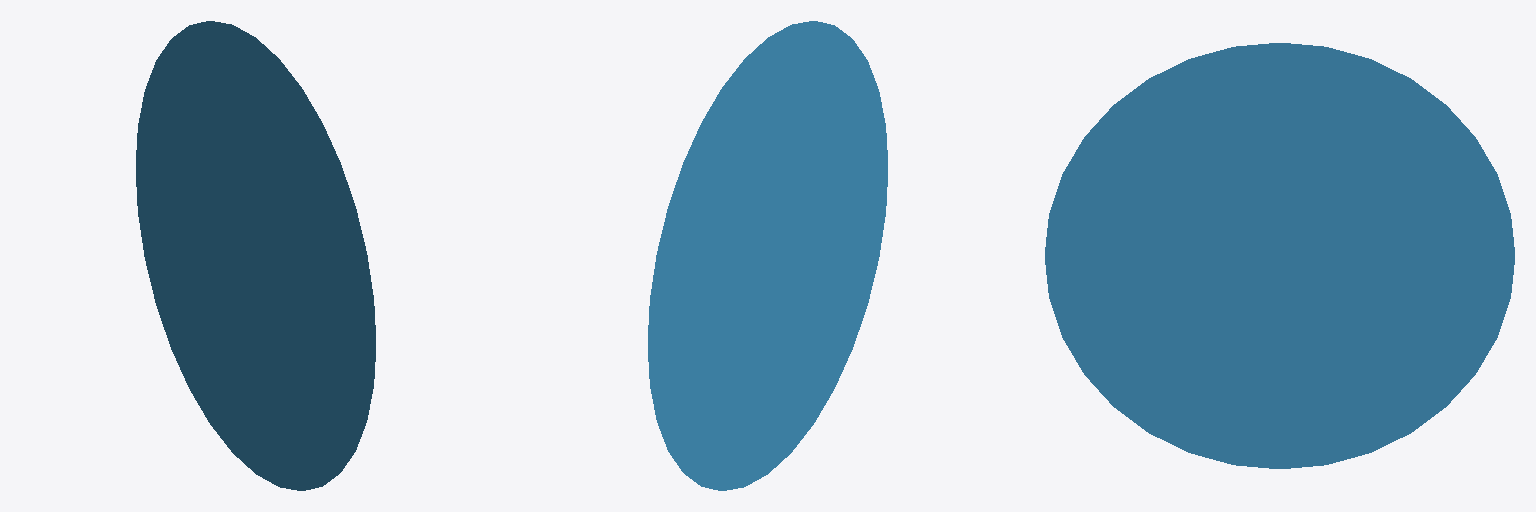
The robot description file, URDF, robot "DexterousHand":
<?xml version="1.0"?>
<robot name="DexterousHand">


    <link name="world"/>
    <joint name="world_to_palm" type="fixed">
        <parent link="world"/>
        <child link="palm"/>
        <origin xyz="0 0 0" rpy="0 0 0"/>
    </joint>
    <link name="palm">
        <inertial>
            <origin xyz="0 0 0.057" rpy="0 0 0"/>
            <mass value="0.0"/>
            <inertia ixx="0.0" ixy="0.0" ixz="0.0" iyy="0.0" iyz="0.0" izz="0.0"/>
        </inertial>
        <visual>
            <origin xyz="0 0 0.057" rpy="1.5708 0 1.5708"/>
            <geometry>
                <cylinder radius="0.057" length="0.0"/>
            </geometry>
            <material name="default"/>
        </visual>
        <collision>
            <origin xyz="0 0 0.057" rpy="1.5708 0 1.5708"/>
            <geometry>
                <cylinder radius="0.057" length="0.0"/>
            </geometry>
        </collision>
    </link>

    
    <joint name="thumb_joint1" type="revolute">
        <parent link="palm"/>
        <child link="thumb_base"/>
        <origin xyz="0.0 0.0 0.0" rpy="0.0 0.0 0.0"/>
        <axis xyz="1 0 0"/>
        <limit lower="0.0" upper="0.0" effort="1.0" velocity="1.0"/>
    </joint>

    <link name="thumb_base"></link>

    <joint name="thumb_joint2" type="revolute">
        <parent link="thumb_base"/>
        <child link="thumb_proximal"/>
        <origin xyz="0.0 0.0 0.0" rpy="0.0 0.0 0.0"/>
        <axis xyz="0 1 0"/>
        <limit lower="0.0" upper="0.0" effort="1.0" velocity="1.0"/>
    </joint>

    <link name="thumb_proximal">
    </link>

    <joint name="thumb_joint3" type="revolute">
        <parent link="thumb_proximal"/>
        <child link="thumb_knuckle"/>
        <origin xyz="0.0 0.0 0.0" rpy="0.0 0.0 0.0"/>
        <axis xyz="1 0 0"/>
        <limit lower="0.0" upper="0.0" effort="1.0" velocity="1.0"/>
    </joint>

    <link name="thumb_knuckle"></link>

    <joint name="thumb_joint4" type="revolute">
        <parent link="thumb_knuckle"/>
        <child link="thumb_middle"/>
        <origin xyz="0 0 0" rpy="0 0 0"/> 
        <axis xyz="0 1 0"/>
        <limit lower="0.0" upper="0.0" effort="1.0" velocity="1.0"/>
    </joint>

    <link name="thumb_middle">
    </link>

    <joint name="thumb_joint5" type="revolute">
        <parent link="thumb_middle"/>
        <child link="thumb_distal"/>
        <origin xyz="0 0 0" rpy="0 0 0"/> 
        <axis xyz="0 1 0"/>
        <limit lower="0.0" upper="0.0" effort="1.0" velocity="1.0"/>
    </joint>

    <link name="thumb_distal">
    </link>

    
    <joint name="index_joint1" type="revolute">
        <parent link="palm"/>
        <child link="index_proximal"/>
        <origin xyz="0.0 0.0 0.0" rpy="0.0 0.0 0.0"/>
        <axis xyz="1 0 0"/>
        <limit lower="0.0" upper="0.0" effort="1.0" velocity="1.0"/>
    </joint>

    <link name="index_proximal">
    </link>

    <joint name="index_joint2" type="revolute">
        <parent link="index_proximal"/>
        <child link="index_dummy"/>
        <origin xyz="0.0 0.0 0.0" rpy="0.0 0.0 0.0"/>
        <axis xyz="0 1 0"/>
        <limit lower="0.0" upper="0.0" effort="1.0" velocity="1.0"/>
    </joint>

    <link name="index_dummy"></link>

    <joint name="index_joint3" type="revolute">
        <parent link="index_dummy"/>
        <child link="index_middle"/>
        <origin xyz="0 0 0" rpy="0 0 0"/>
        <axis xyz="0 1 0"/>
        <limit lower="0.0" upper="0.0" effort="1.0" velocity="1.0"/>
    </joint>

    <link name="index_middle">
    </link>

    <joint name="index_joint4" type="revolute">
        <parent link="index_middle"/>
        <child link="index_distal"/>
        <origin xyz="0 0 0" rpy="0 0 0"/> 
        <axis xyz="0 1 0"/>
        <limit lower="0.0" upper="0.0" effort="1.0" velocity="1.0"/>
    </joint>

    <link name="index_distal">
    </link>

    
    <joint name="middle_joint1" type="revolute">
        <parent link="palm"/>
        <child link="middle_proximal"/>
        <origin xyz="0.0 0.0 0.0" rpy="0.0 0.0 0.0"/>
        <axis xyz="1 0 0"/>
        <limit lower="0.0" upper="0.0" effort="1.0" velocity="1.0"/>
    </joint>

    <link name="middle_proximal">
    </link>

    <joint name="middle_joint2" type="revolute">
        <parent link="middle_proximal"/>
        <child link="middle_dummy"/>
        <origin xyz="0.0 0.0 0.0" rpy="0.0 0.0 0.0"/>
        <axis xyz="0 1 0"/>
        <limit lower="0.0" upper="0.0" effort="1.0" velocity="1.0"/>
    </joint>

    <link name="middle_dummy"></link>

    <joint name="middle_joint3" type="revolute">
        <parent link="middle_dummy"/>
        <child link="middle_middle"/>
        <origin xyz="0 0 0" rpy="0 0 0"/>
        <axis xyz="0 1 0"/>
        <limit lower="0.0" upper="0.0" effort="1.0" velocity="1.0"/>
    </joint>

    <link name="middle_middle">
    </link>

    <joint name="middle_joint4" type="revolute">
        <parent link="middle_middle"/>
        <child link="middle_distal"/>
        <origin xyz="0 0 0" rpy="0 0 0"/> 
        <axis xyz="0 1 0"/>
        <limit lower="0.0" upper="0.0" effort="1.0" velocity="1.0"/>
    </joint>

    <link name="middle_distal">
    </link>

    
    <joint name="ring_joint1" type="revolute">
        <parent link="palm"/>
        <child link="ring_proximal"/>
        <origin xyz="0.0 0.0 0.0" rpy="0.0 0.0 0.0"/>
        <axis xyz="1 0 0"/>
        <limit lower="0.0" upper="0.0" effort="1.0" velocity="1.0"/>
    </joint>

    <link name="ring_proximal">
    </link>

    <joint name="ring_joint2" type="revolute">
        <parent link="ring_proximal"/>
        <child link="ring_dummy"/>
        <origin xyz="0.0 0.0 0.0" rpy="0.0 0.0 0.0"/>
        <axis xyz="0 1 0"/>
        <limit lower="0.0" upper="0.0" effort="1.0" velocity="1.0"/>
    </joint>

    <link name="ring_dummy"></link>

    <joint name="ring_joint3" type="revolute">
        <parent link="ring_dummy"/>
        <child link="ring_middle"/>
        <origin xyz="0 0 0" rpy="0 0 0"/>
        <axis xyz="0 1 0"/>
        <limit lower="0.0" upper="0.0" effort="1.0" velocity="1.0"/>
    </joint>

    <link name="ring_middle">
    </link>

    <joint name="ring_joint4" type="revolute">
        <parent link="ring_middle"/>
        <child link="ring_distal"/>
        <origin xyz="0 0 0" rpy="0 0 0"/> 
        <axis xyz="0 1 0"/>
        <limit lower="0.0" upper="0.0" effort="1.0" velocity="1.0"/>
    </joint>

    <link name="ring_distal">
    </link>

    
    <joint name="little_joint0" type="revolute">
        <parent link="palm"/>
        <child link="little_base"/>
        <origin xyz="0.0 0.0 0.0" rpy="0.0 0.0 0.0"/>
        <axis xyz="0 1 0"/>
        <limit lower="0.0" upper="0.0" effort="1.0" velocity="1.0"/>
    </joint>

    <link name="little_base"></link>

    <joint name="little_joint1" type="revolute">
        <parent link="little_base"/>
        <child link="little_proximal"/>
        <origin xyz="0.0 0.0 0.0" rpy="-0.0 -0.0 -0.0"/>
        <axis xyz="1 0 0"/>
        <limit lower="0.0" upper="0.0" effort="1.0" velocity="1.0"/>
    </joint>

    <link name="little_proximal">
    </link>

    <joint name="little_joint2" type="revolute">
        <parent link="little_proximal"/>
        <child link="little_dummy"/>
        <origin xyz="0.0 0.0 0.0" rpy="0.0 0.0 0.0"/>
        <axis xyz="0 1 0"/>
        <limit lower="0.0" upper="0.0" effort="1.0" velocity="1.0"/>
    </joint>

    <link name="little_dummy"></link>

    <joint name="little_joint3" type="revolute">
        <parent link="little_dummy"/>
        <child link="little_middle"/>
        <origin xyz="0 0 0" rpy="0 0 0"/>
        <axis xyz="0 1 0"/>
        <limit lower="0.0" upper="0.0" effort="1.0" velocity="1.0"/>
    </joint>

    <link name="little_middle">
    </link>

    <joint name="little_joint4" type="revolute">
        <parent link="little_middle"/>
        <child link="little_distal"/>
        <origin xyz="0 0 0" rpy="0 0 0"/>
        <axis xyz="0 1 0"/>
        <limit lower="0.0" upper="0.0" effort="1.0" velocity="1.0"/>
    </joint>

    <link name="little_distal">
    </link>

</robot>

--- Render facts (derived) ---
Views: 3 orthographic renders of the robot side by side, from view 1: azimuth 30°, elevation 25°; view 2: azimuth 150°, elevation 25°; view 3: azimuth 270°, elevation 25°.
Model DexterousHand with 24 links and 23 joints (22 revolute, 1 fixed), rooted at world, posed all joints at 0.
Visible links, largest first — view 1: palm; view 2: palm; view 3: palm.
Boxes of the visible links, x1,y1,x2,y2 form: palm: (136, 21, 375, 490); palm: (648, 21, 887, 490); palm: (1045, 43, 1514, 468).
Size in the robot's own frame: 0 by 0.114 by 0.114 metres.
Geometry: primitives only (box / cylinder / sphere), no mesh files.
